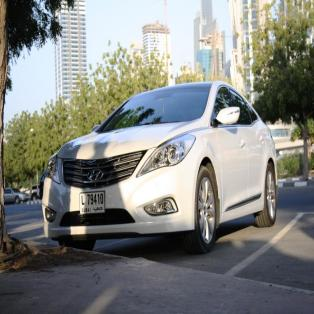Auto: (39, 79, 284, 258)
